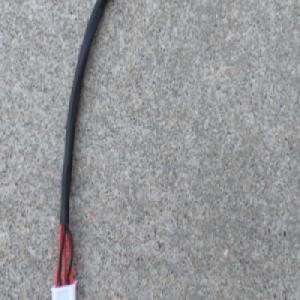Wire: (49, 0, 108, 300)
